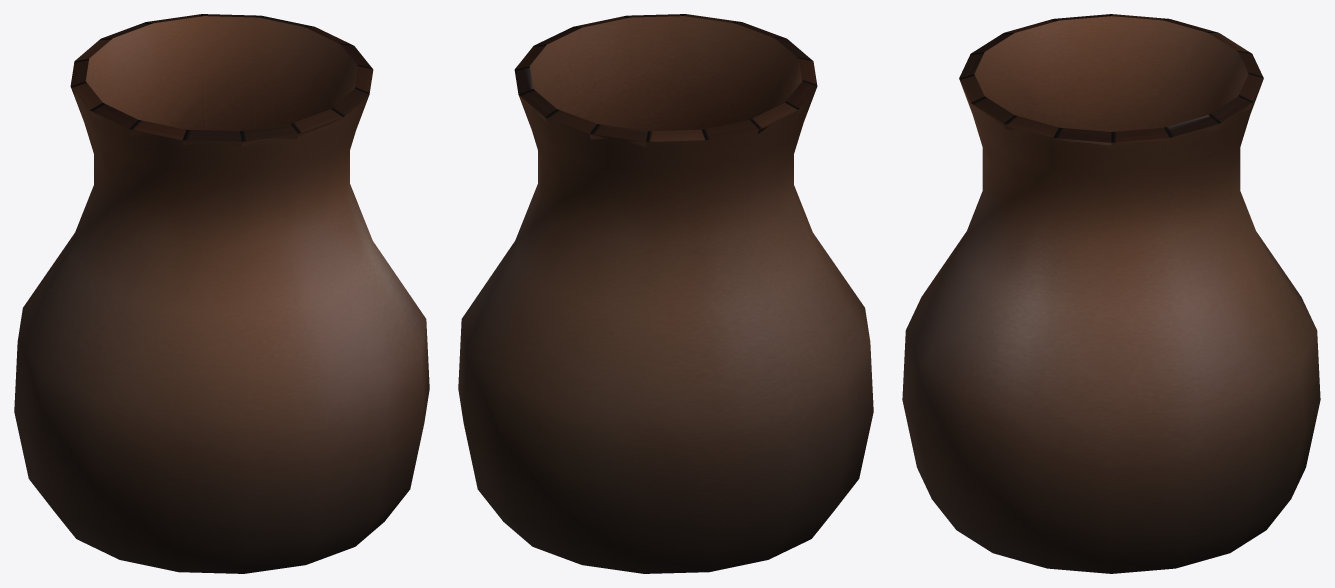
Rendered from vase02.fbx.
The picture shows the model from 3 angles, left to right: view 1: azimuth 30°, elevation 25°; view 2: azimuth 150°, elevation 25°; view 3: azimuth 270°, elevation 25°; orthographic projection.
Parts seen in each view (by area): view 1: vase02.001; view 2: vase02.001; view 3: vase02.001.
Part boxes in pixels (box(x1,y1,x2,y2)): vase02.001: box(14, 14, 429, 573); vase02.001: box(458, 14, 873, 573); vase02.001: box(902, 14, 1320, 573).
Bounding box in the file's own units: 0.2308 × 0.2308 × 0.2612.
1 material, 1 textured.
